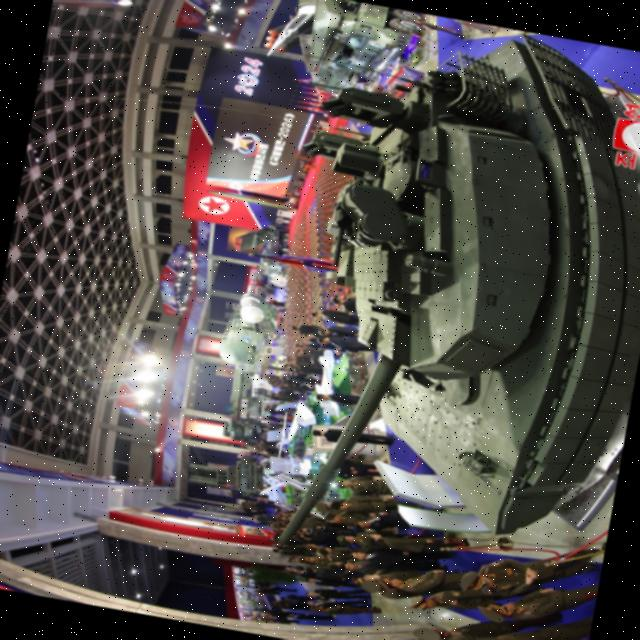north tank: (250, 0, 640, 608)
